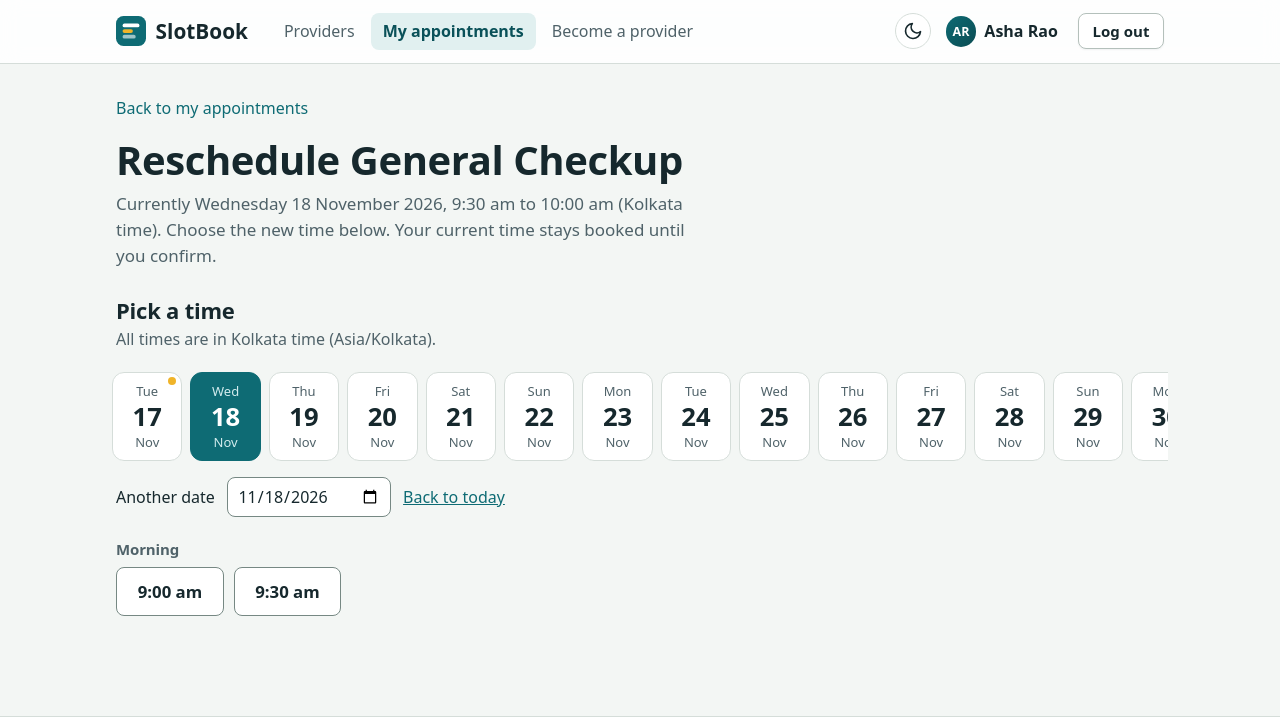
Scenario: rescheduling › handles a taken slot (409) by refreshing the times
Click the button "9:30 am".
click(287, 592)  # box [234, 567, 341, 616]
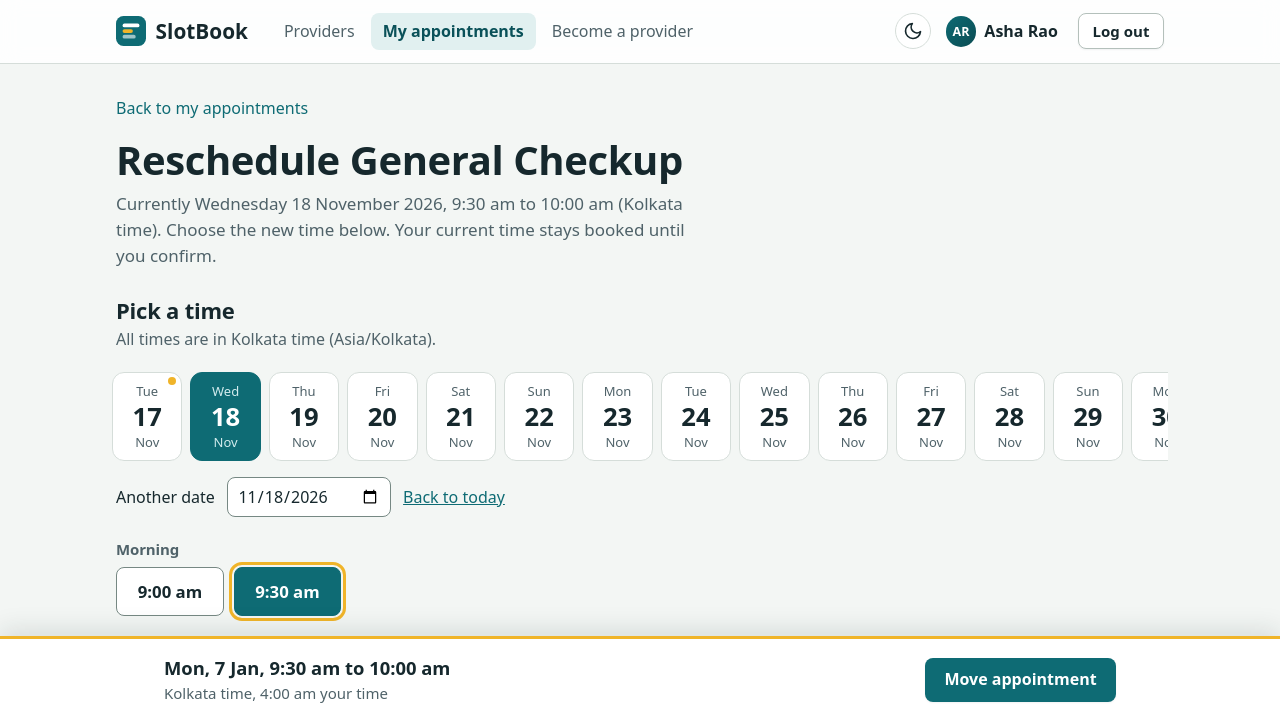
Click the button "Move appointment".
click(1020, 680)  # box [925, 658, 1116, 702]
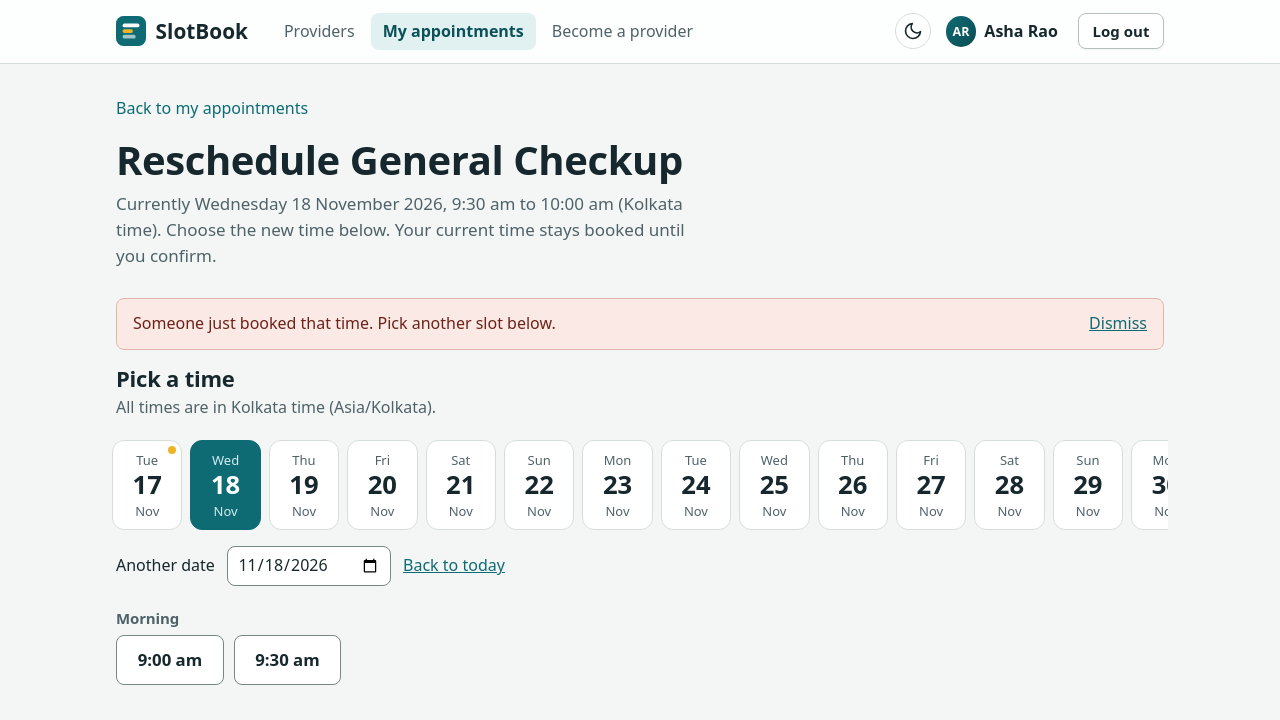
Now the message shows "Someone just booked that time", box [133, 312, 556, 334]
